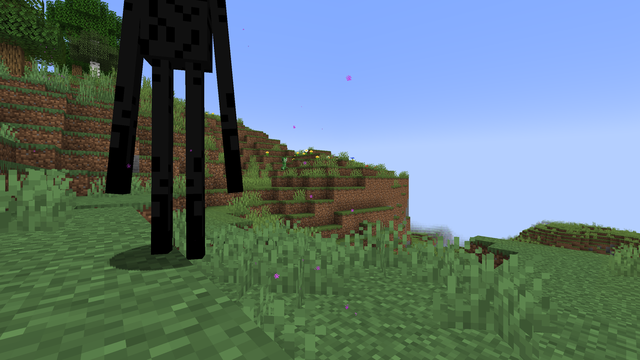creepers: (281, 156, 287, 169)
endermens: (133, 1, 225, 267)
